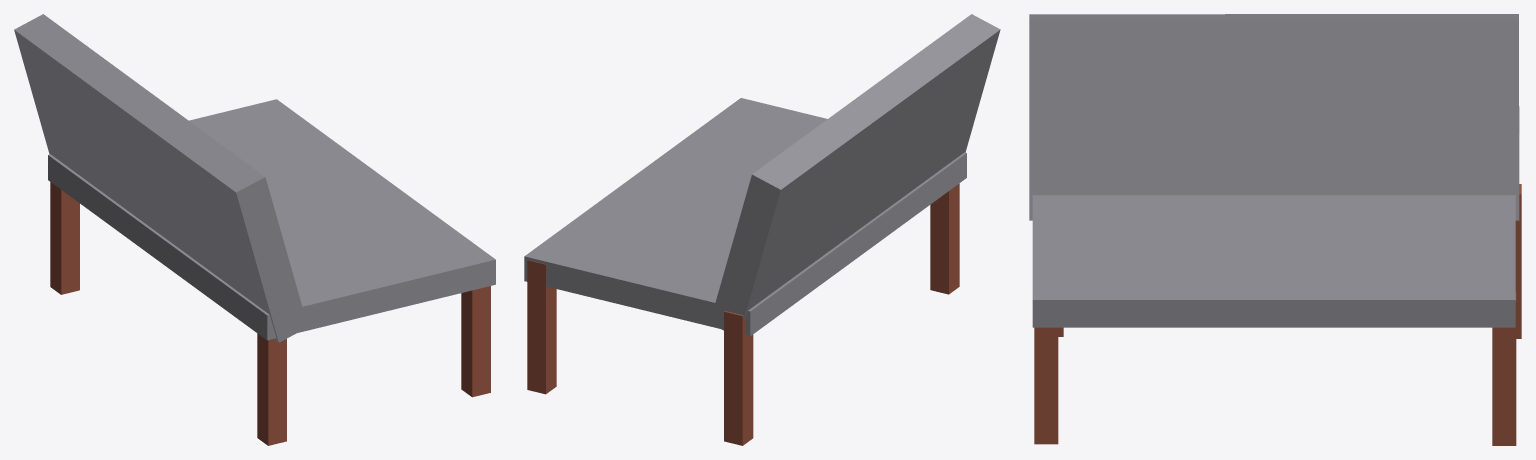
File: bangku.fbx
3 renders of one model, left to right at view 1: azimuth 30°, elevation 25°; view 2: azimuth 150°, elevation 25°; view 3: azimuth 270°, elevation 25°, orthographic. The views are drawn at different scales.
Visible parts, largest first — view 1: Cube.004, Cube.005, Cube, Cube.001, Cube.003; view 2: Cube.004, Cube.005, Cube.003, Cube.002, Cube.001; view 3: Cube.005, Cube.004, Cube.002, Cube, Cube.003.
Part boxes in pixels (x1,y1,x2,y2): Cube.004: (48, 99, 495, 340); Cube.005: (14, 14, 307, 342); Cube: (461, 286, 490, 397); Cube.001: (257, 333, 286, 445); Cube.003: (50, 182, 79, 294); Cube.004: (524, 98, 966, 336); Cube.005: (709, 14, 1000, 330); Cube.003: (724, 311, 753, 445); Cube.002: (527, 260, 556, 394); Cube.001: (930, 183, 959, 294); Cube.005: (1029, 14, 1519, 220); Cube.004: (1032, 195, 1515, 327); Cube.002: (1492, 291, 1516, 445); Cube: (1034, 327, 1058, 444); Cube.003: (1515, 184, 1521, 338).
Bounding box in the file's own units: 417 × 420 × 617.
